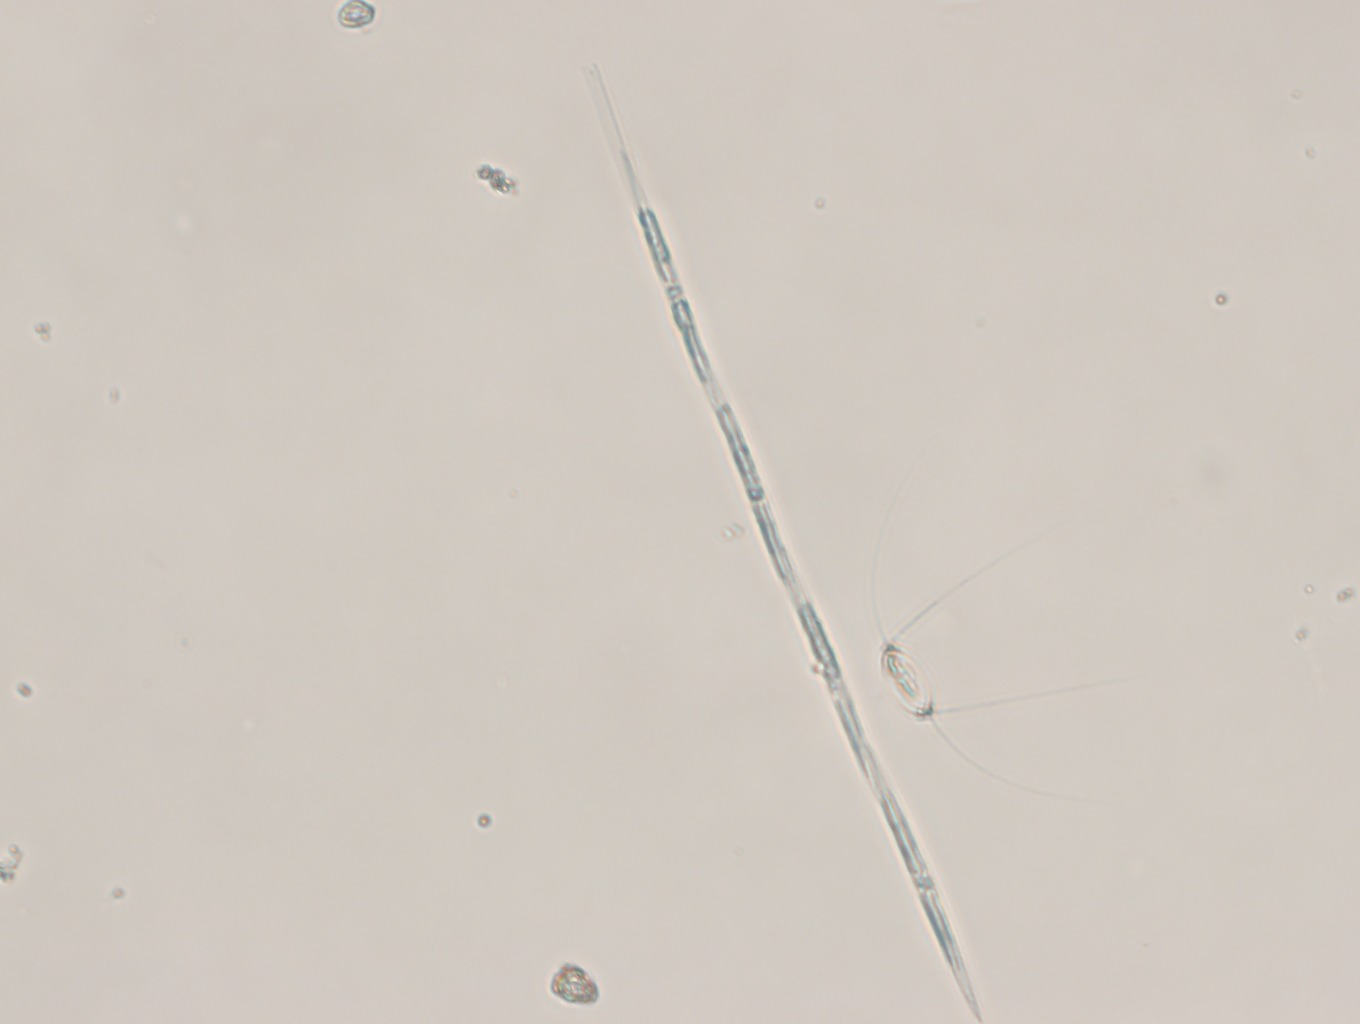chaetoceros: (859, 427, 1144, 820)
